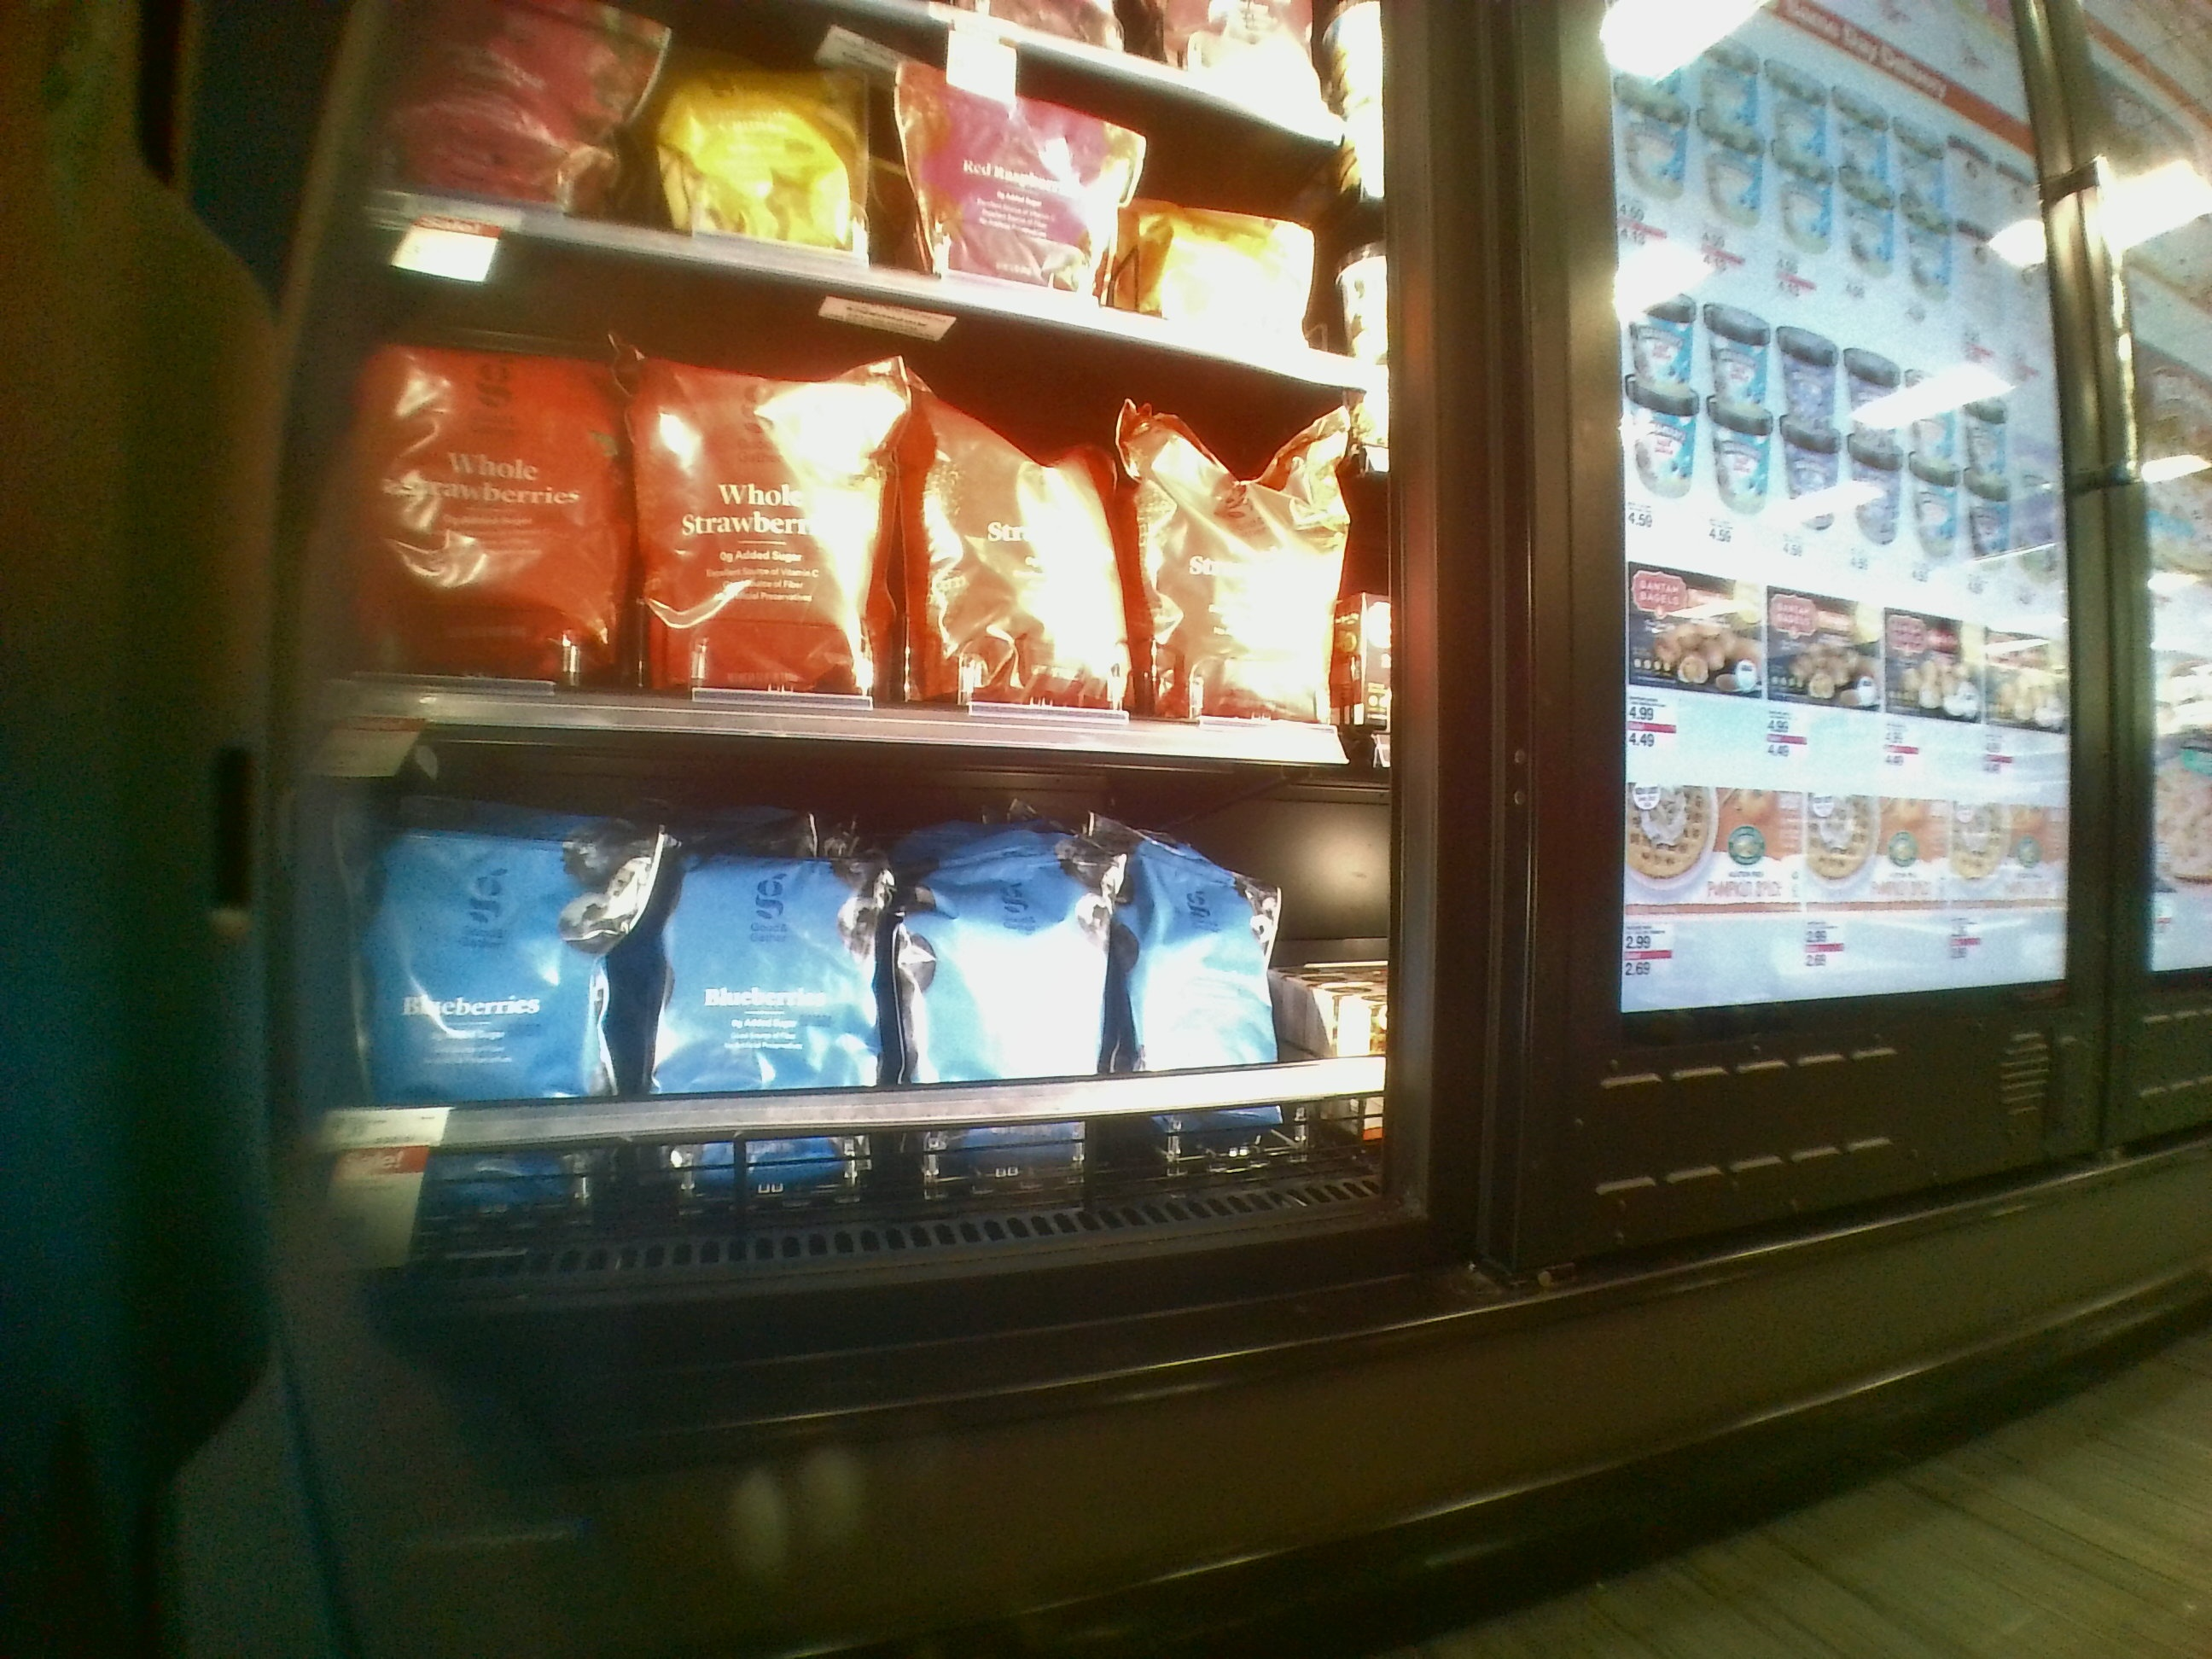shelf: (334, 751, 1402, 1248), (334, 342, 1379, 755)
